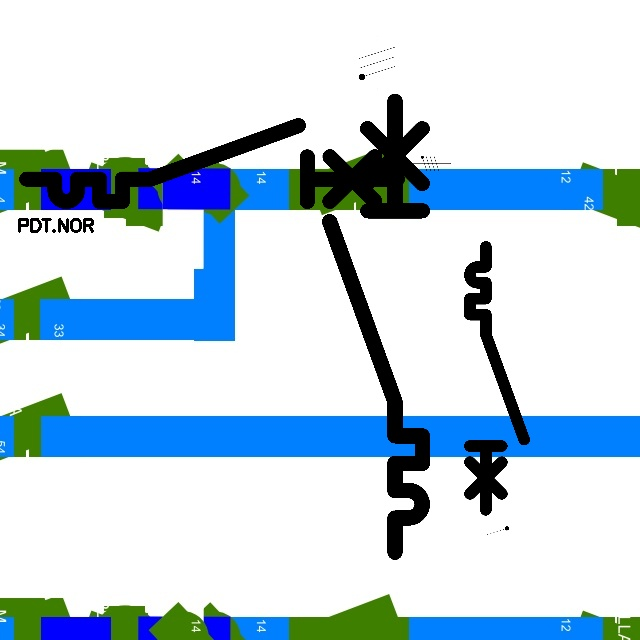interruptor_termomagnetico: (318, 89, 434, 564), (17, 116, 407, 211), (463, 240, 530, 517)
